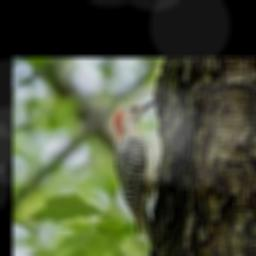Woodpecker: (114, 100, 180, 249)
